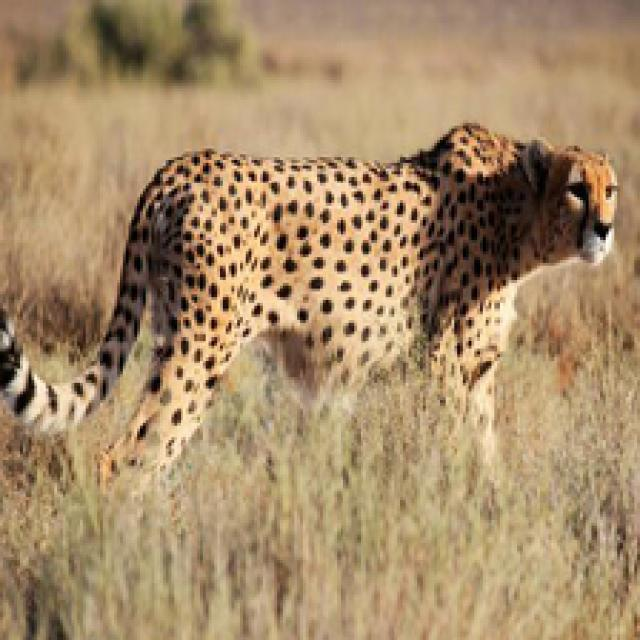cheetah: (0, 100, 640, 560)
